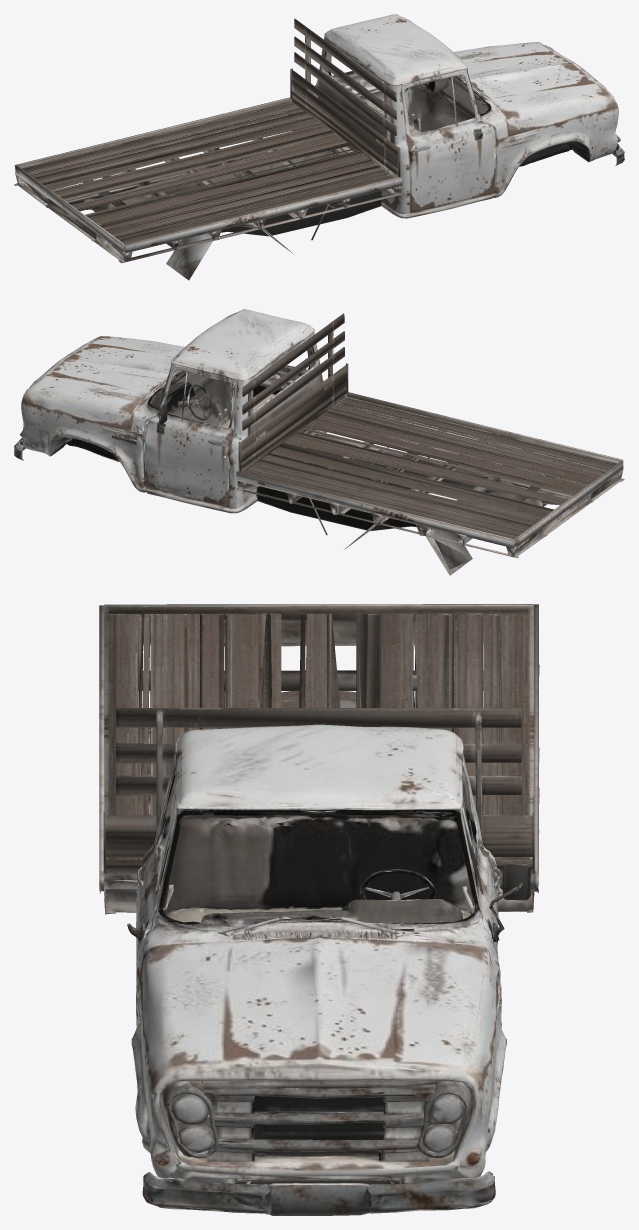
The model's file is flatbed.glb.
3 renders of one model, top to bottom at view 1: azimuth 30°, elevation 25°; view 2: azimuth 150°, elevation 25°; view 3: azimuth 270°, elevation 25°, orthographic. The views are drawn at different scales.
Visible parts, largest first — view 1: flatbed; view 2: flatbed; view 3: flatbed.
Part boxes in pixels (left/top/right/bottom): flatbed: left=14, top=14, right=624, bottom=280; flatbed: left=14, top=309, right=624, bottom=575; flatbed: left=99, top=604, right=539, bottom=1215.
Size of the model in its own units: 5.2 by 1.43 by 1.9.
1 material, 1 textured.
